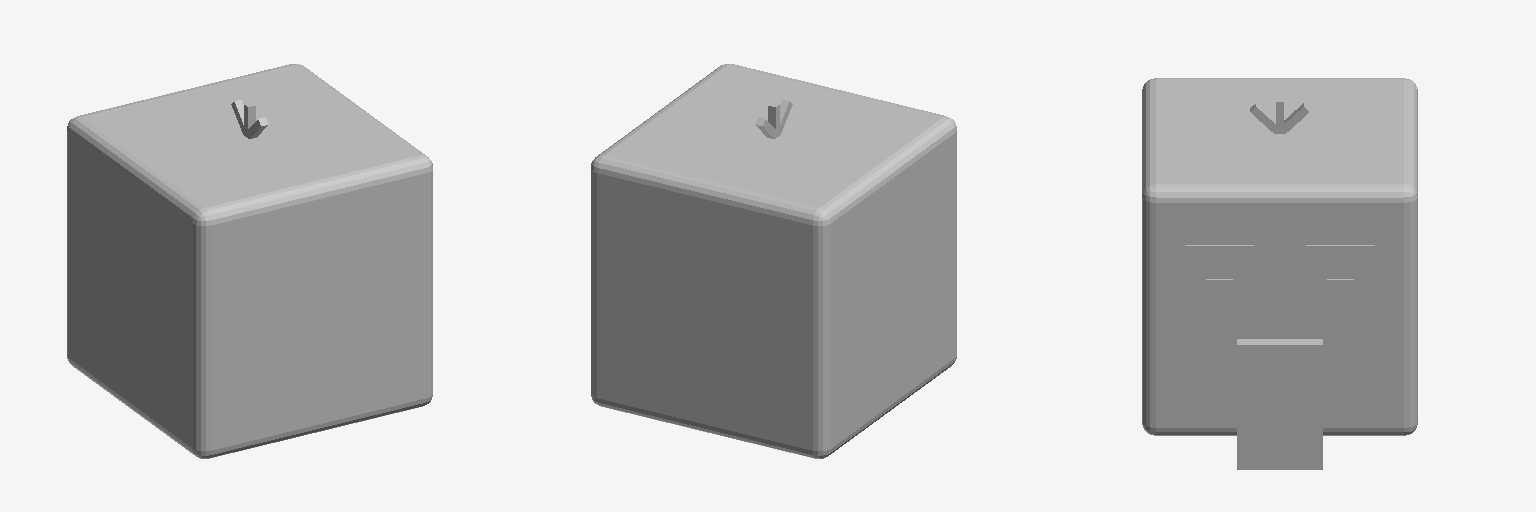
Rendered from duckbot.obj.
3 views of the same model, side by side, from view 1: azimuth 30°, elevation 25°; view 2: azimuth 150°, elevation 25°; view 3: azimuth 270°, elevation 25° (orthographic).
Parts seen in each view (by area): view 1: Body; view 2: Body; view 3: Body, Top_beak, Right_eye, Left_eye, Right_pupil, Left_pupil.
Part boxes in pixels (left/top/right/bottom): Body: left=67, top=64, right=432, bottom=458; Body: left=591, top=64, right=956, bottom=458; Body: left=1142, top=78, right=1417, bottom=435; Top_beak: left=1237, top=339, right=1322, bottom=469; Right_eye: left=1185, top=245, right=1253, bottom=308; Left_eye: left=1306, top=245, right=1374, bottom=308; Right_pupil: left=1206, top=279, right=1232, bottom=304; Left_pupil: left=1327, top=279, right=1353, bottom=304.
Size of the model in its own units: 0.84 by 0.975 by 0.8.